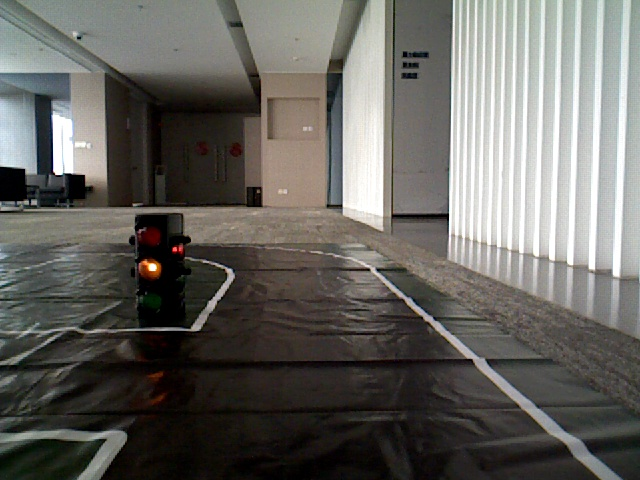yellow: (138, 215, 172, 313)
